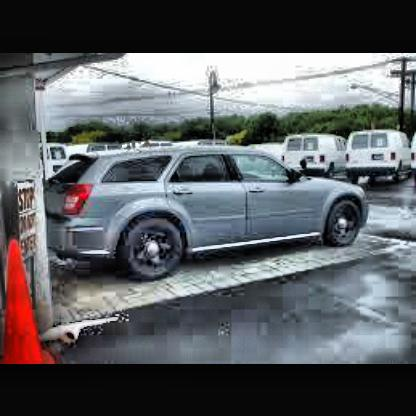Dodge Magnum Wagon 2008: (48, 142, 375, 281)
